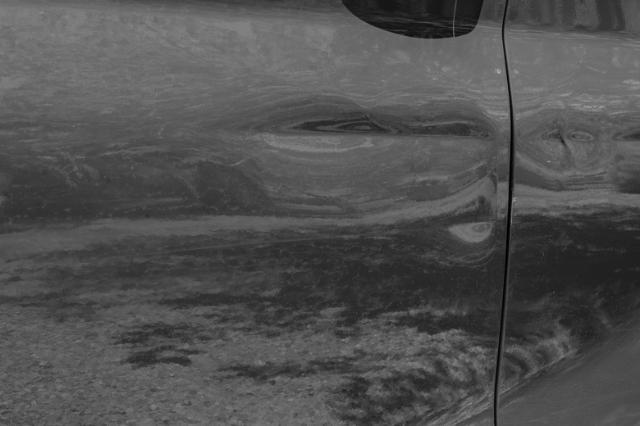Door: (4, 36, 640, 426)
